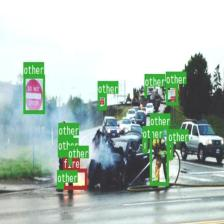fire: (62, 168, 86, 189)
